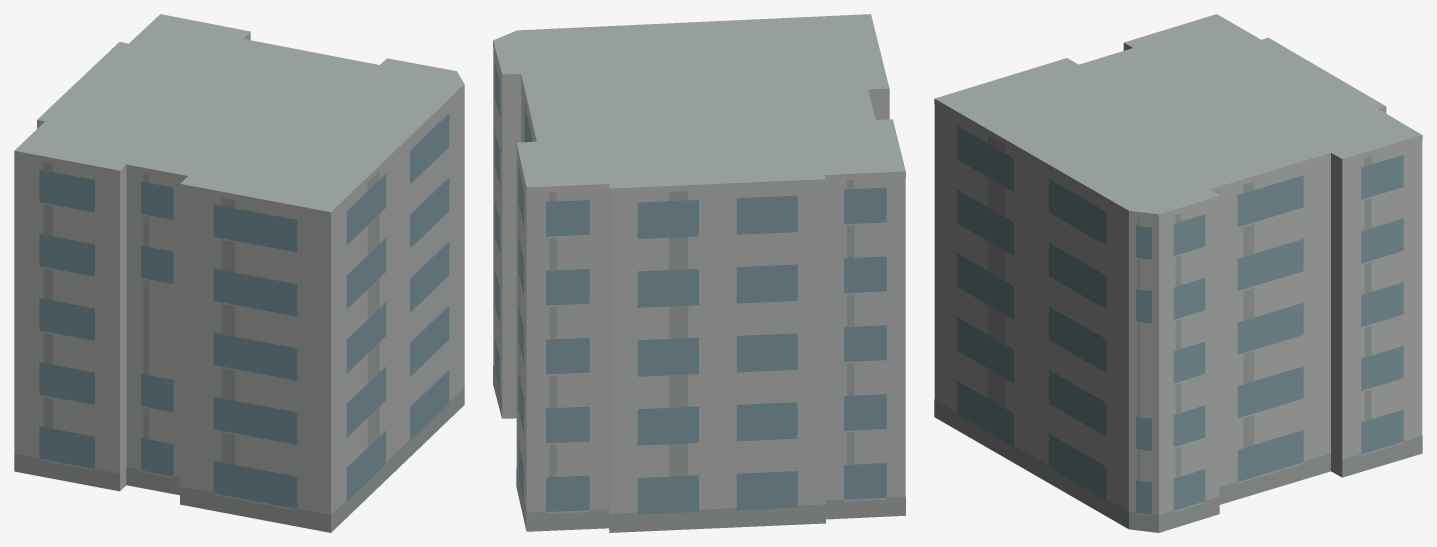
File: survey-upis-32797719.glb
The picture shows the model from 3 angles, left to right: view 1: azimuth 30°, elevation 25°; view 2: azimuth 150°, elevation 25°; view 3: azimuth 270°, elevation 25°; orthographic projection. The views are drawn at different scales.
Visible parts, largest first — view 1: survey-upis-32797719.tmp; view 2: survey-upis-32797719.tmp; view 3: survey-upis-32797719.tmp.
Boxes of the visible parts, x1,y1,x2,y2 form: survey-upis-32797719.tmp: [14, 14, 464, 532]; survey-upis-32797719.tmp: [493, 14, 905, 532]; survey-upis-32797719.tmp: [934, 14, 1422, 532].
Size of the model in its own units: 18.76 by 13.9 by 19.31.
